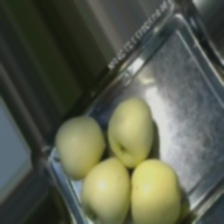apple: (7, 33, 193, 205)
